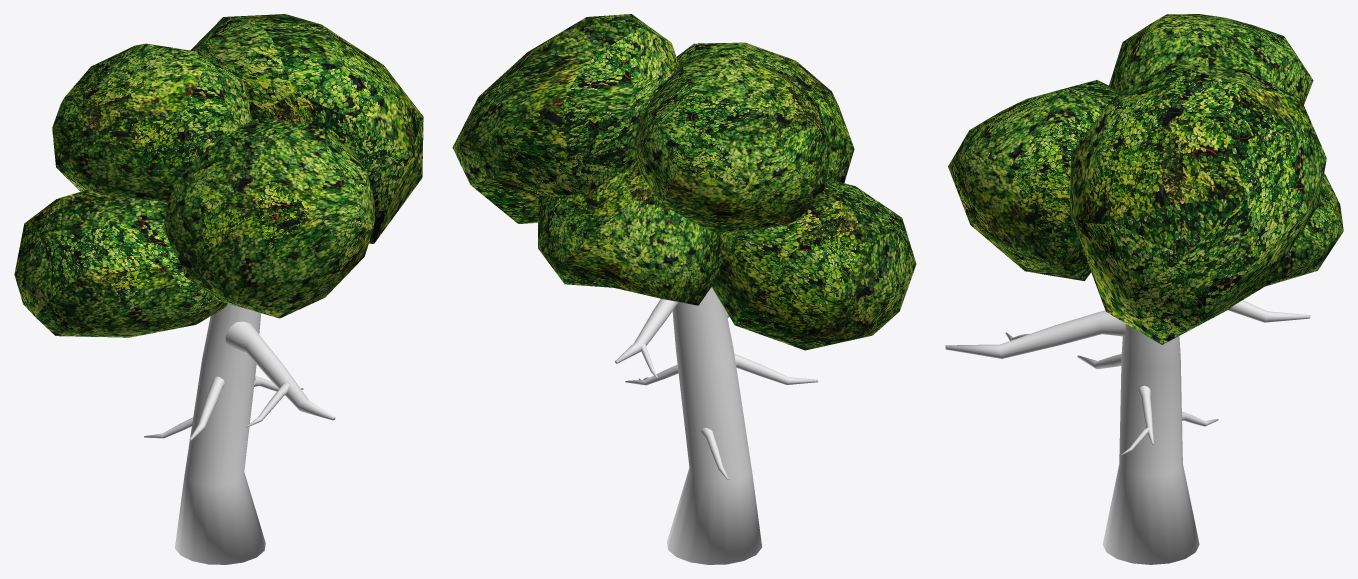
Rendered from agac3.fbx.
3 renders of one model, left to right at view 1: azimuth 30°, elevation 25°; view 2: azimuth 150°, elevation 25°; view 3: azimuth 270°, elevation 25°, orthographic. The views are drawn at different scales.
Visible parts, largest first — view 1: agac; view 2: agac; view 3: agac.
Boxes of the visible parts, box(x1,y1,x2,y2) form: agac: box(14, 14, 423, 564); agac: box(452, 14, 916, 564); agac: box(945, 14, 1343, 564).
Size of the model in its own units: 1079 by 1267 by 893.
